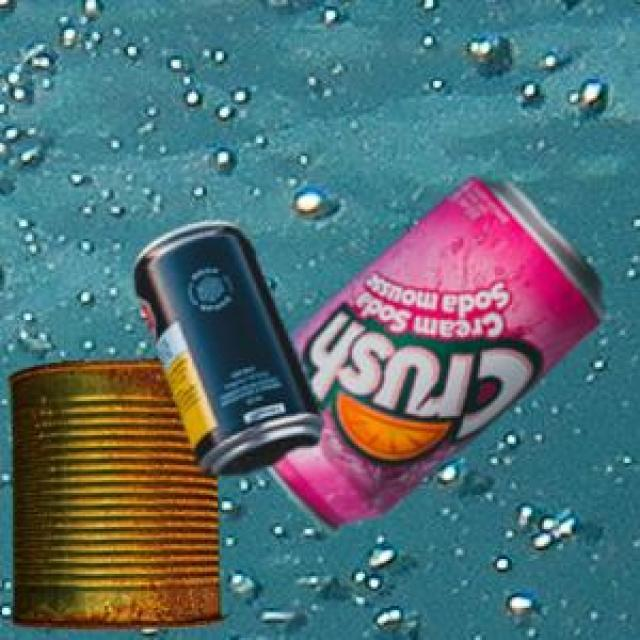Can: (266, 174, 601, 530), (5, 358, 221, 626), (131, 219, 321, 473)
